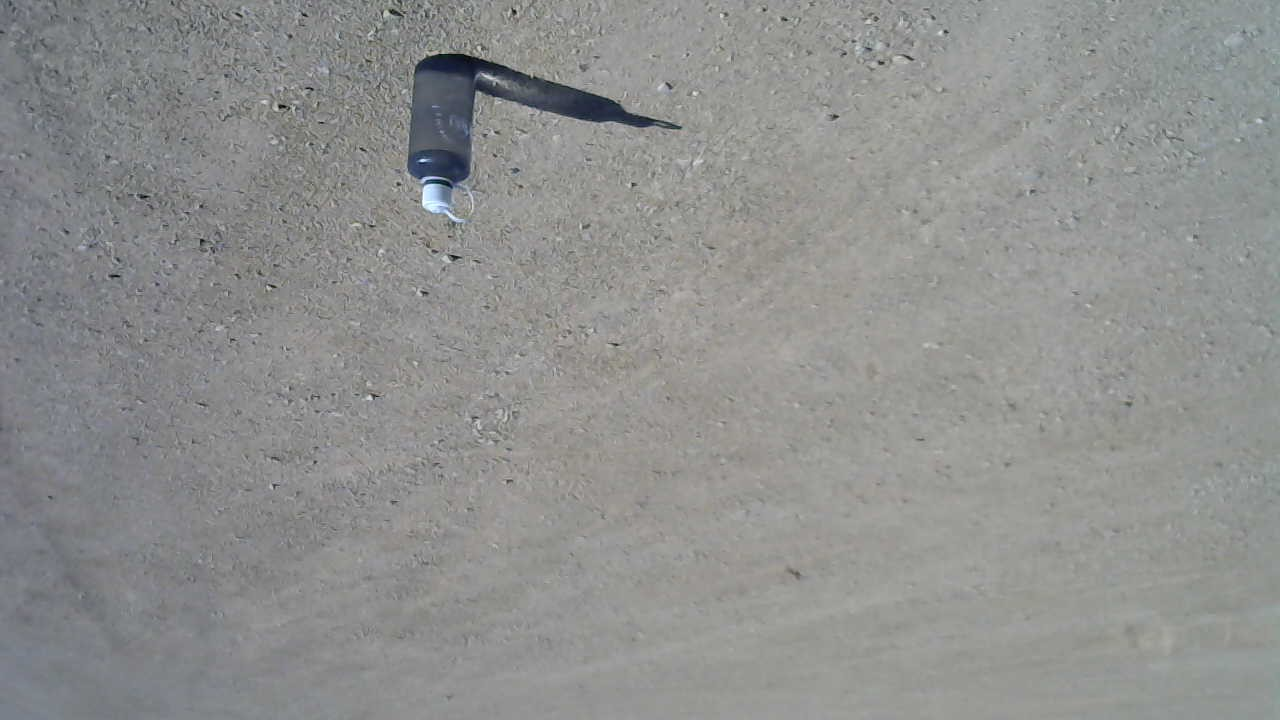bottle: (398, 39, 478, 231)
